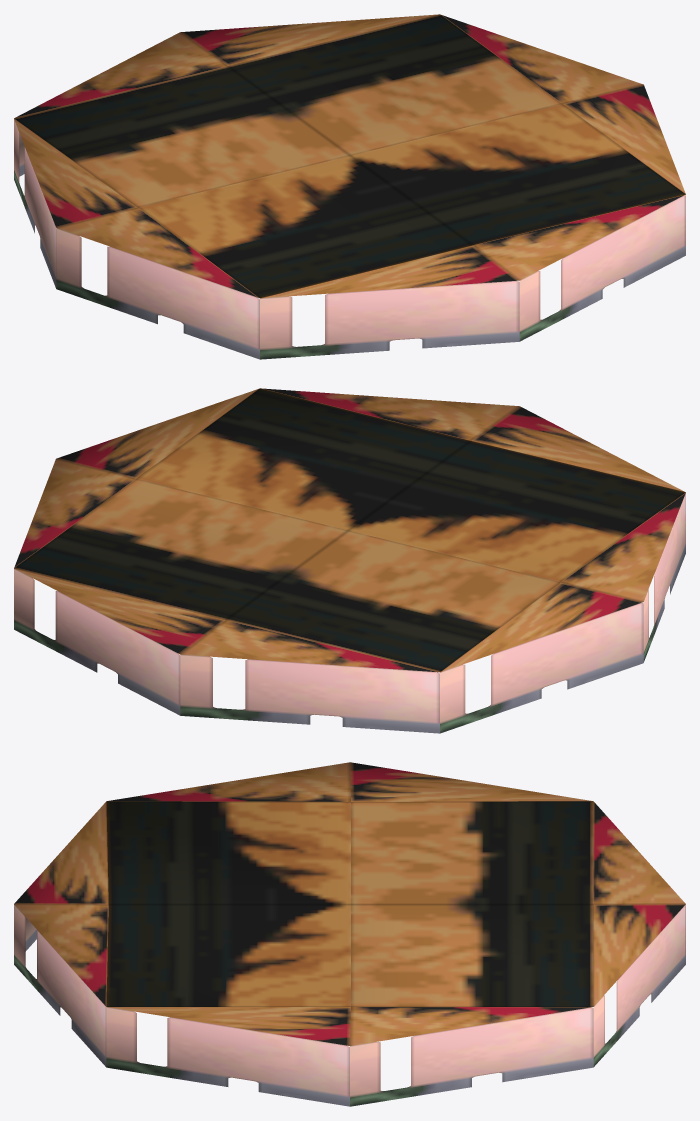
3 renders of one model, top to bottom at view 1: azimuth 30°, elevation 25°; view 2: azimuth 150°, elevation 25°; view 3: azimuth 270°, elevation 25°, orthographic.
Visible parts, largest first — view 1: T1L1M001_21; view 2: T1L1M001_21; view 3: T1L1M001_21.
Part boxes in pixels (bbox=[...]): T1L1M001_21: bbox=[14, 14, 685, 359]; T1L1M001_21: bbox=[14, 388, 685, 733]; T1L1M001_21: bbox=[14, 762, 685, 1106].
Size of the model in its own units: 2 by 0.1992 by 2.
